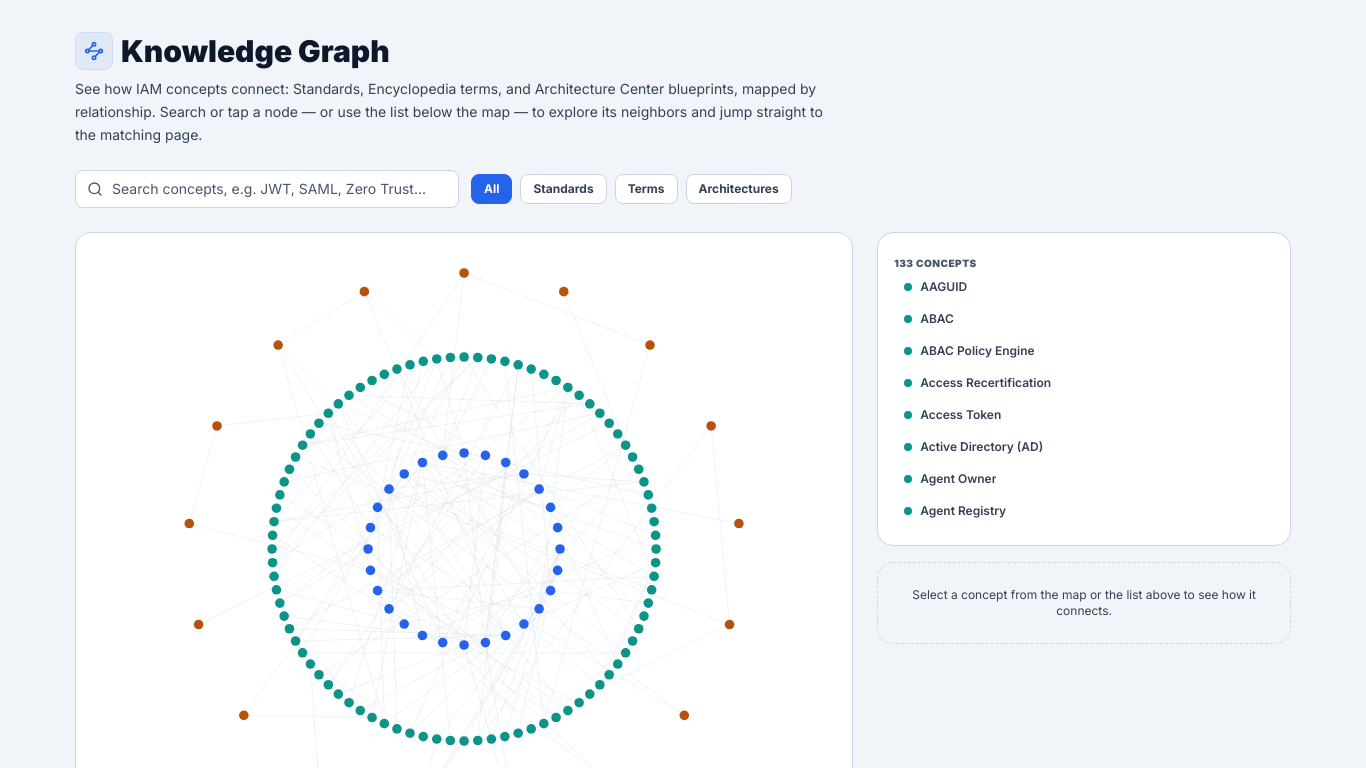
Test case: KnowledgeGraph page › filters the visible list by search query
Type "zzz-no-such-concept" into the field named "search the knowledge graph" at (267, 189), box 75,170 -> 459,208
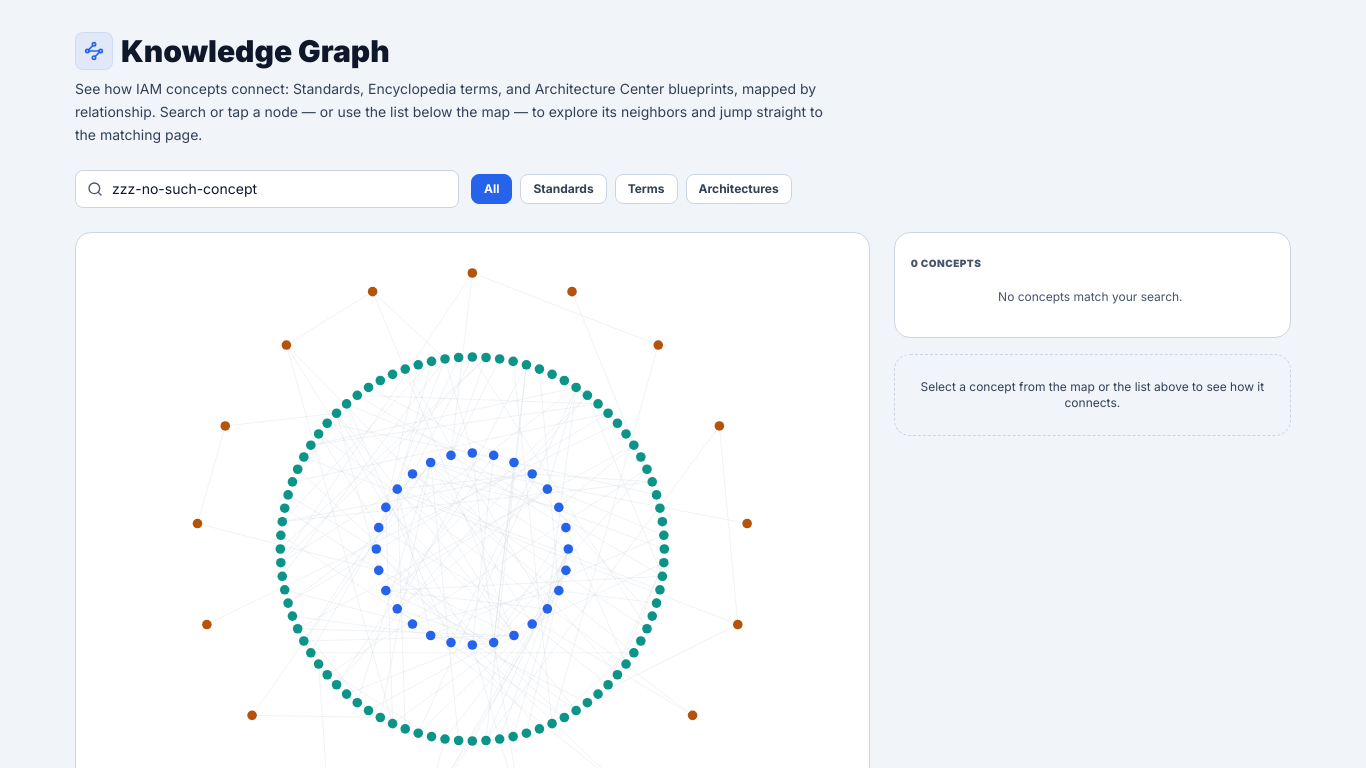
expect the text "No concepts match your search." is shown: met, box 998,289 -> 1183,304
Replace the text in the field named "search the knowledge graph" with "JWT" at (267, 189), box 75,170 -> 459,208
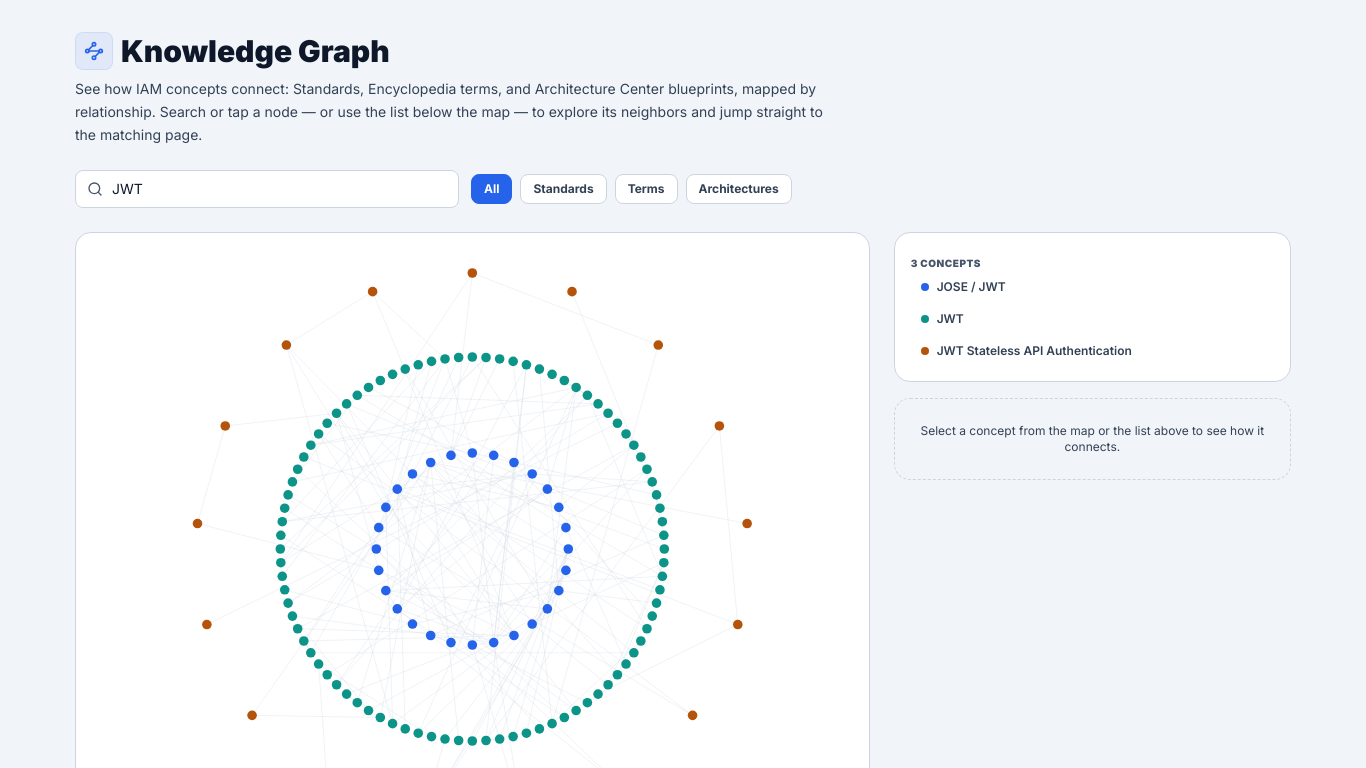
expect the button with aria-label "open jwt details" is shown: met, box 911,305 -> 1270,333
